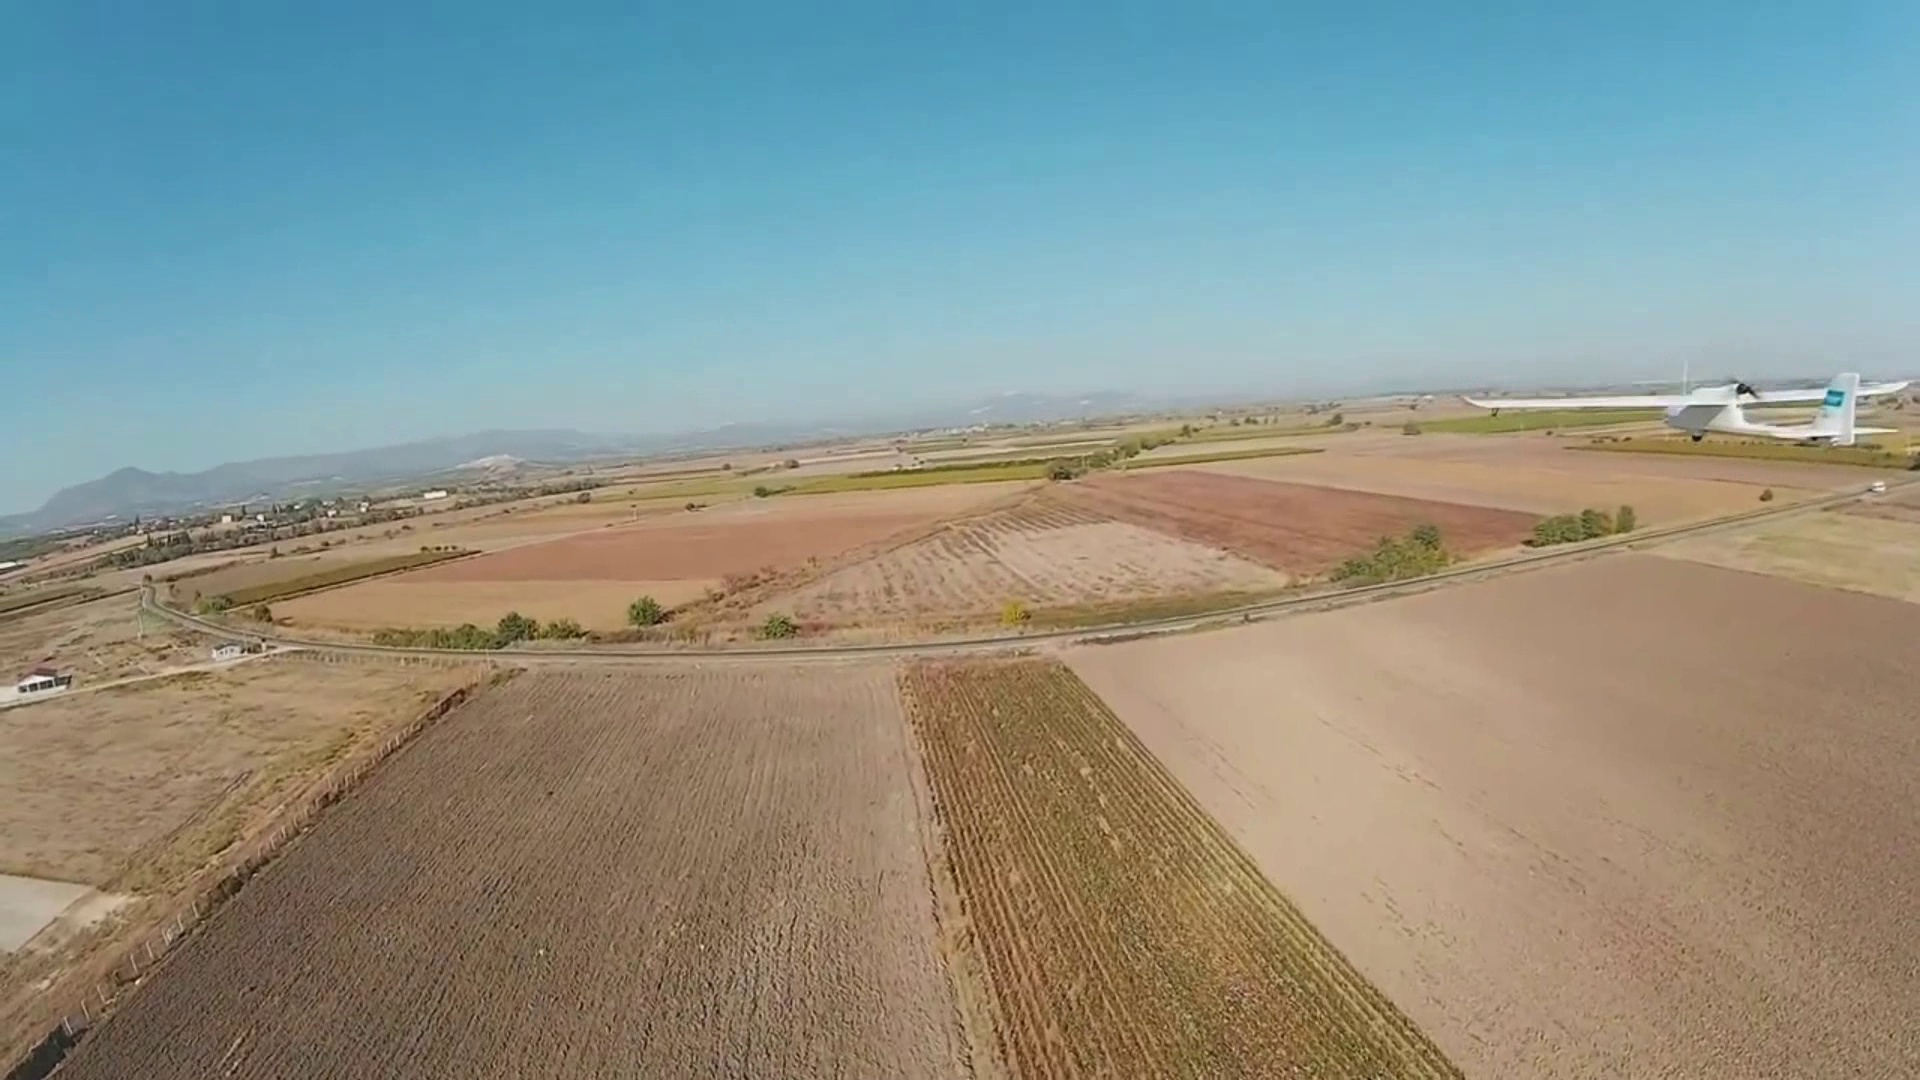airplane: (1653, 371, 1904, 446)
